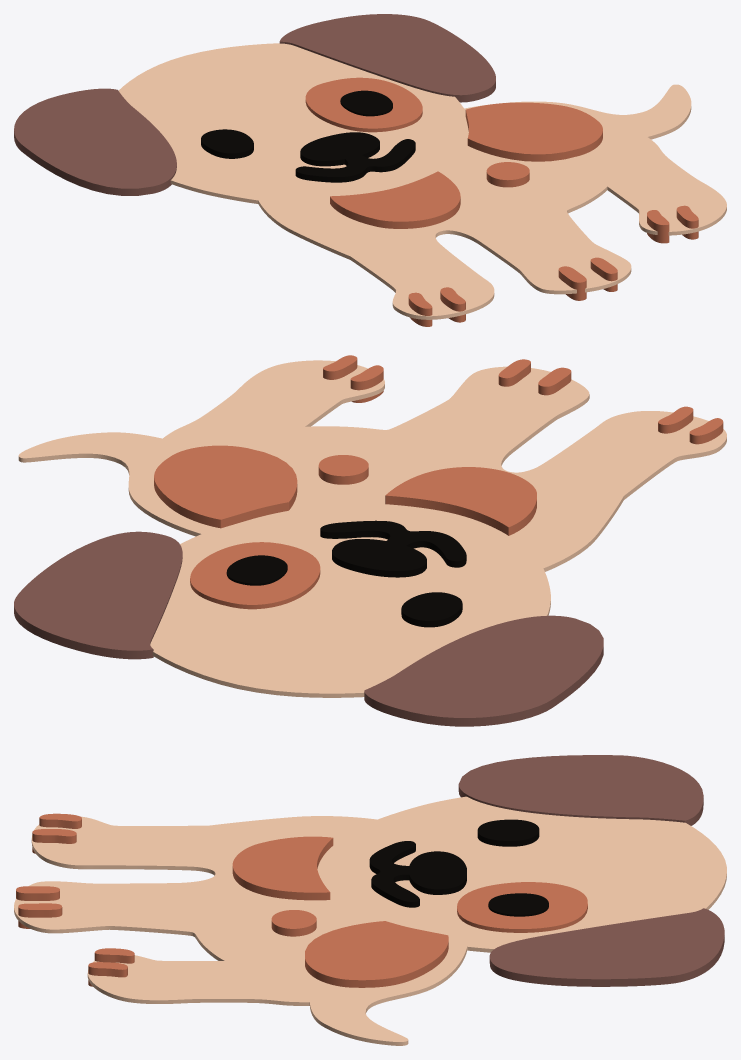
Rendered from emoji_u1f415.glb.
The picture shows the model from 3 angles, top to bottom: view 1: azimuth 30°, elevation 25°; view 2: azimuth 150°, elevation 25°; view 3: azimuth 270°, elevation 25°; orthographic projection. The views are drawn at different scales.
Visible parts, largest first — view 1: emoji_u1f415; view 2: emoji_u1f415; view 3: emoji_u1f415.
Part boxes in pixels (bbox=[...]): emoji_u1f415: bbox=[14, 14, 726, 326]; emoji_u1f415: bbox=[14, 355, 726, 726]; emoji_u1f415: bbox=[14, 755, 726, 1045].
Bounding box in the file's own units: 0.0319 × 0.001 × 0.0338.
